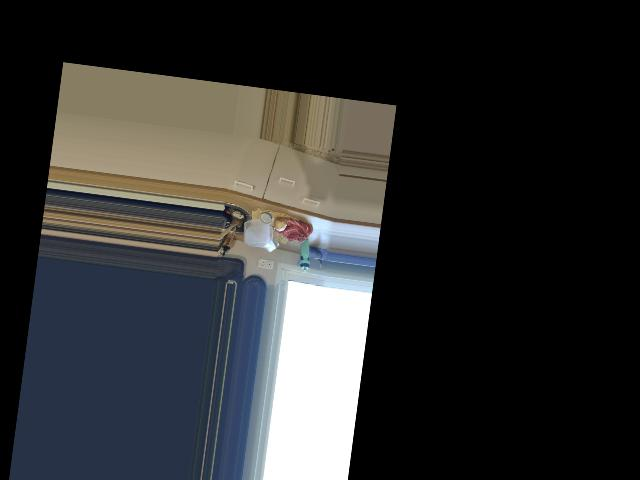onion: (273, 213, 291, 233)
